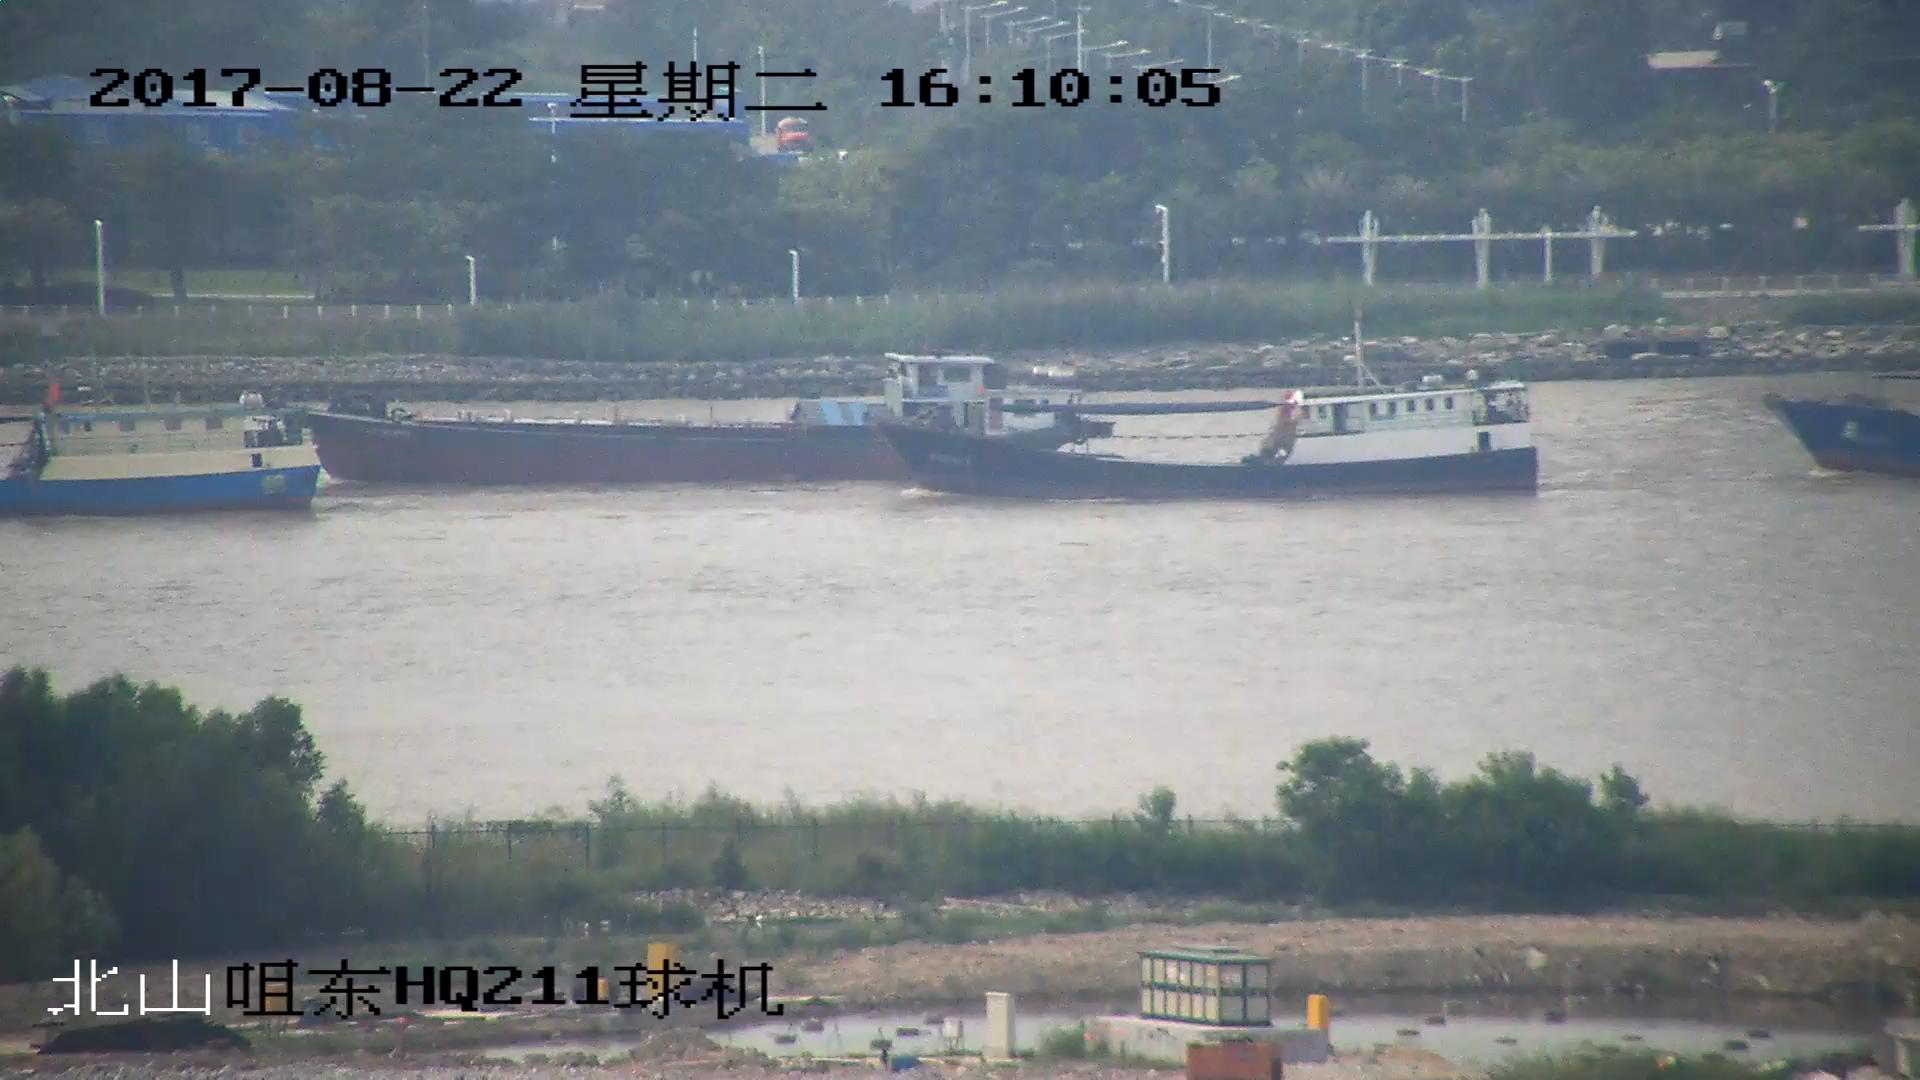bulk cargo carrier: (302, 350, 1112, 491)
fishing boat: (882, 371, 1546, 503), (1, 388, 329, 512)
